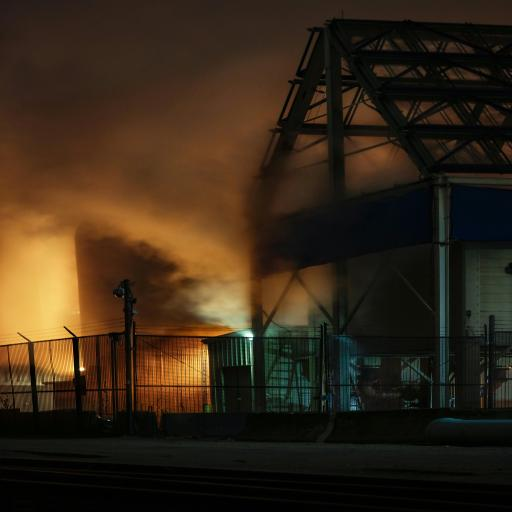smoke: (10, 122, 312, 330)
